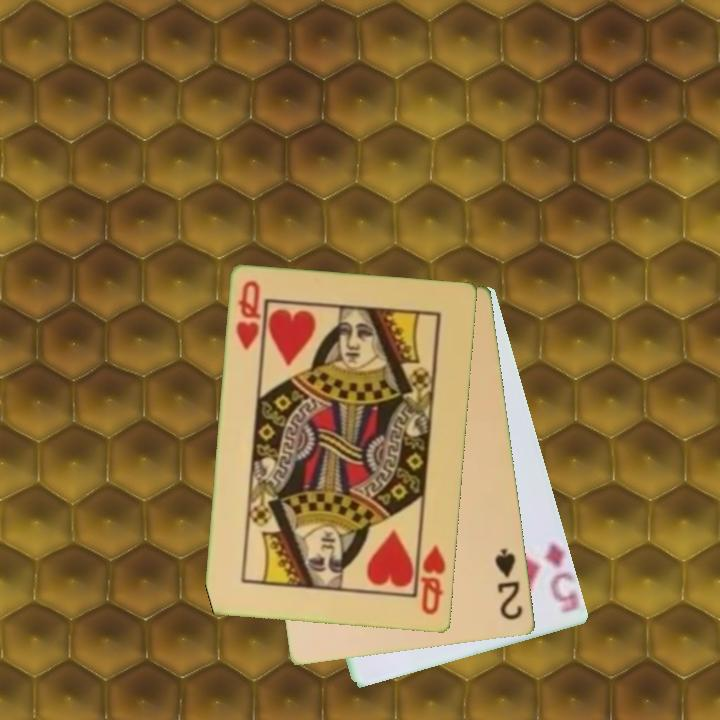2s: (492, 545, 526, 624)
5d: (541, 538, 578, 614)
Qh: (414, 537, 449, 618), (233, 277, 264, 353)
